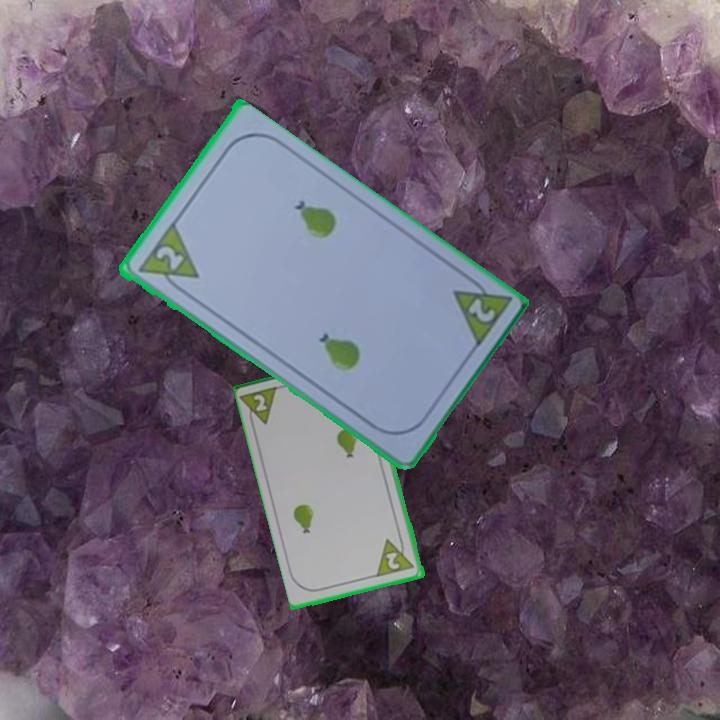2p: (239, 382, 283, 432), (374, 532, 418, 580), (151, 242, 186, 274), (463, 294, 498, 326)
